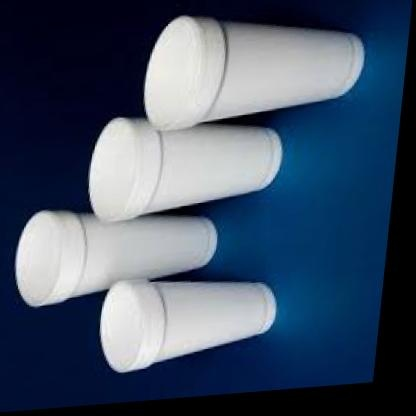trash: (144, 16, 363, 129), (89, 118, 281, 220), (16, 211, 216, 306), (100, 280, 275, 372)
